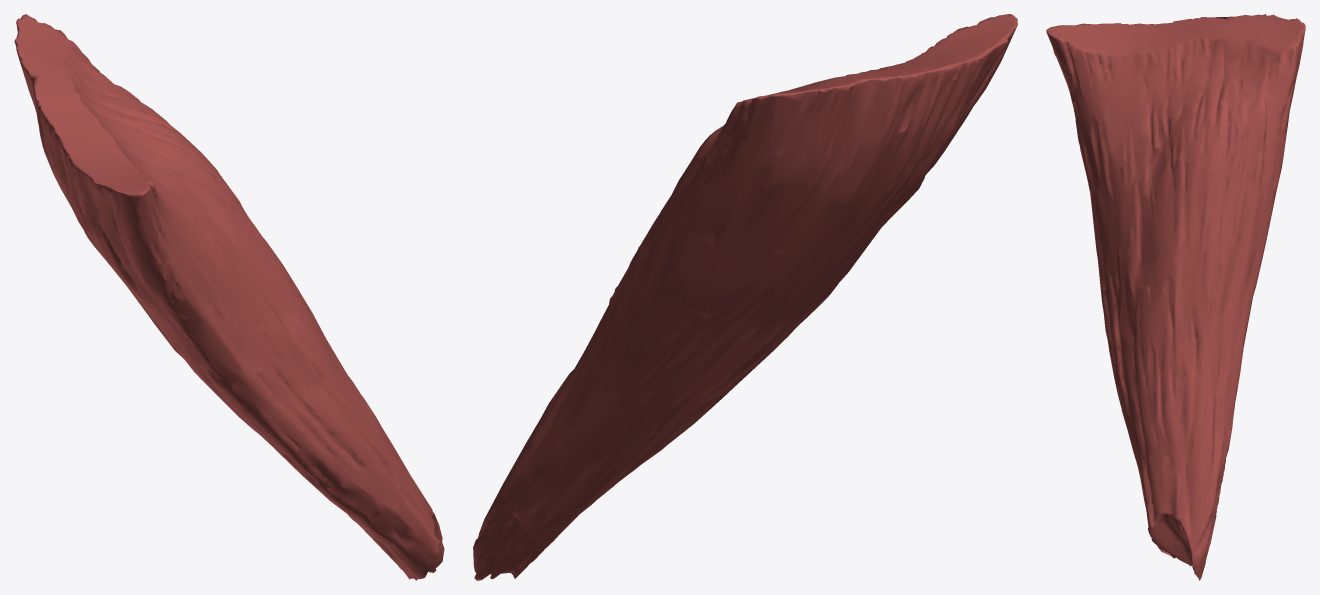
The model's file is FMA32530.glb.
3 renders of one model, left to right at view 1: azimuth 30°, elevation 25°; view 2: azimuth 150°, elevation 25°; view 3: azimuth 270°, elevation 25°, orthographic. The views are drawn at different scales.
Parts seen in each view (by area): view 1: FMA32530; view 2: FMA32530; view 3: FMA32530.
Part boxes in pixels (bbox=[...]): FMA32530: bbox=[14, 14, 444, 580]; FMA32530: bbox=[473, 14, 1017, 580]; FMA32530: bbox=[1046, 14, 1305, 580].
Bounding box in the file's own units: 0.0342 × 0.0454 × 0.0245.
